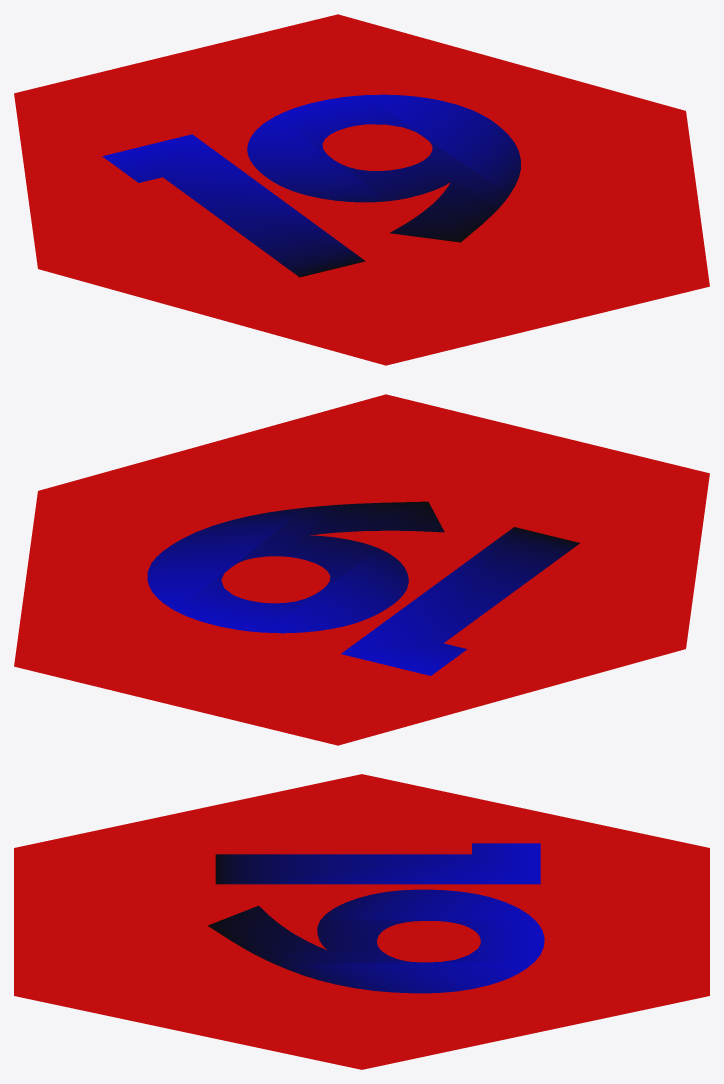
The model's file is SM_Number_19.fbx.
The picture shows the model from 3 angles, top to bottom: view 1: azimuth 30°, elevation 25°; view 2: azimuth 150°, elevation 25°; view 3: azimuth 270°, elevation 25°; orthographic projection. The views are drawn at different scales.
Visible parts, largest first — view 1: FBX_OUT; view 2: FBX_OUT; view 3: FBX_OUT.
Boxes of the visible parts, x1,y1,x2,y2 form: FBX_OUT: (14, 14, 709, 365); FBX_OUT: (14, 394, 709, 745); FBX_OUT: (14, 774, 709, 1069).
Size of the model in its own units: 50 by 0.2917 by 49.71.
